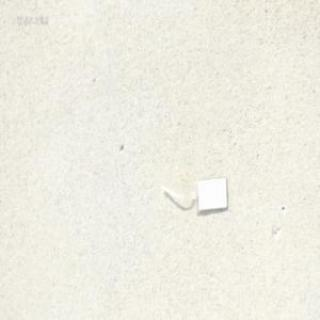LuggageTagtrack_idkeyframe: (158, 174, 227, 215)
